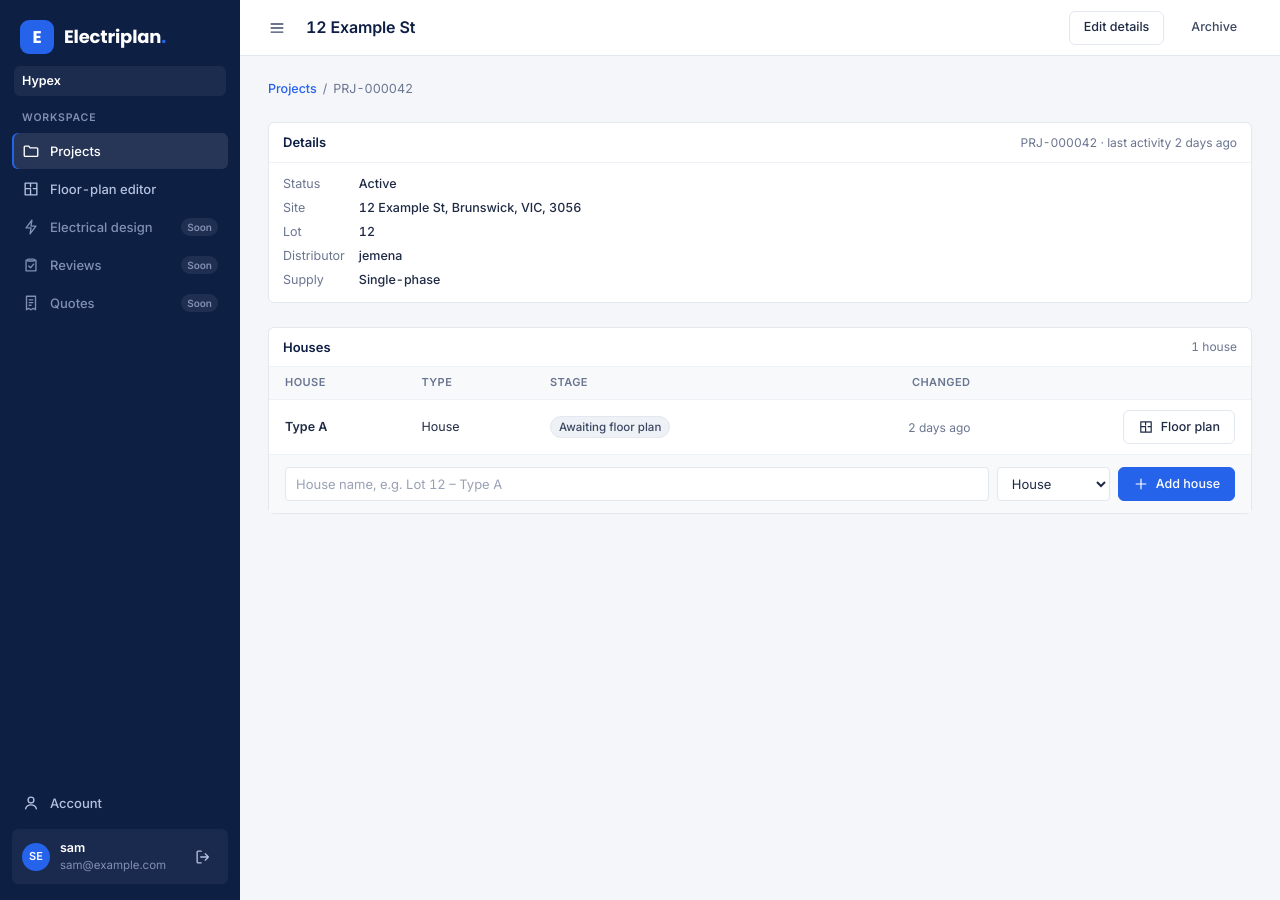
Project page › edits the details with the version it read
The width and height of the screenshot is (1280, 900).
Click the button "Edit details".
click(1117, 28)  # box [1069,10,1164,44]
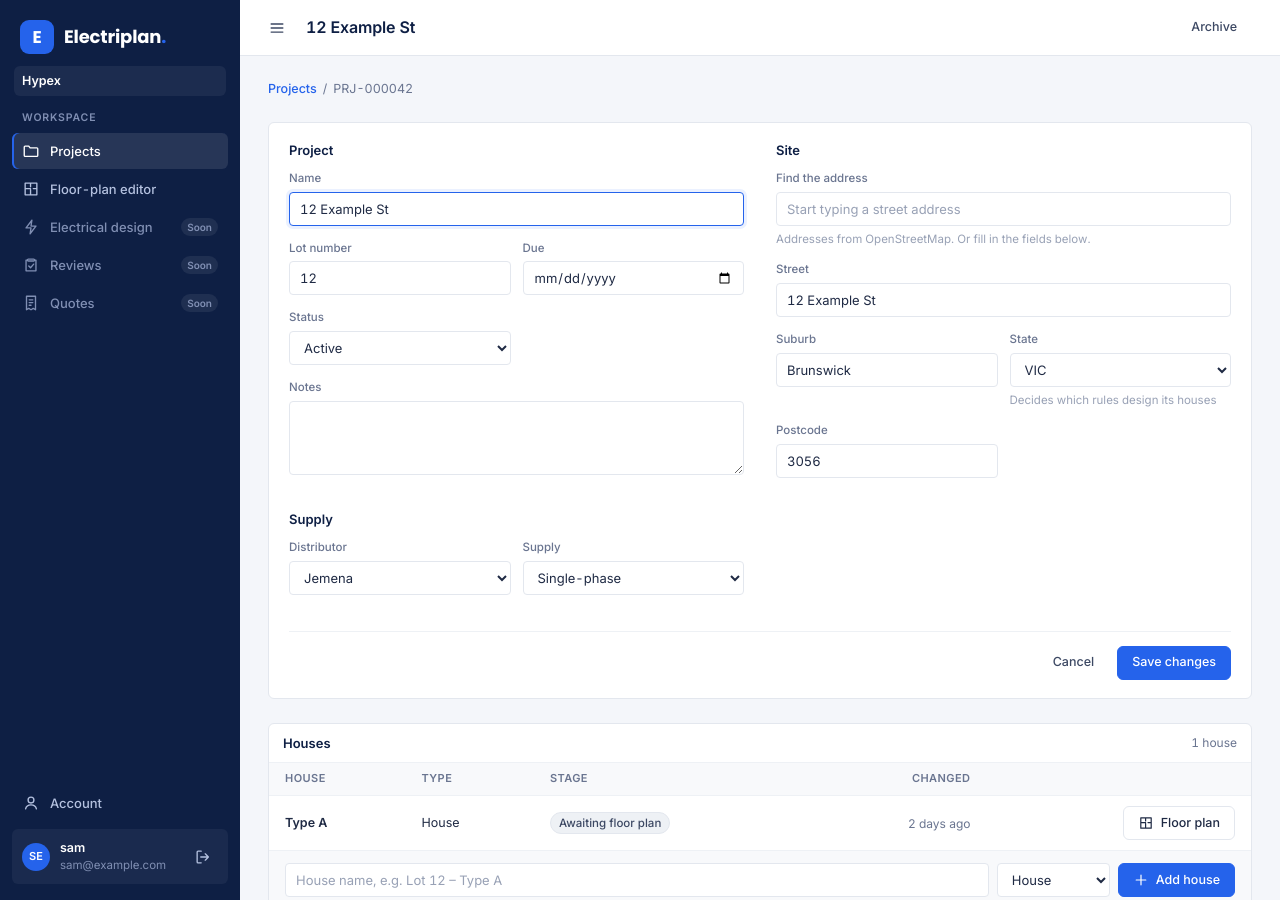
Replace the text in the field labelled "Name" with "14 Example St" at {"x": 516, "y": 209}, box [289,192,744,226]
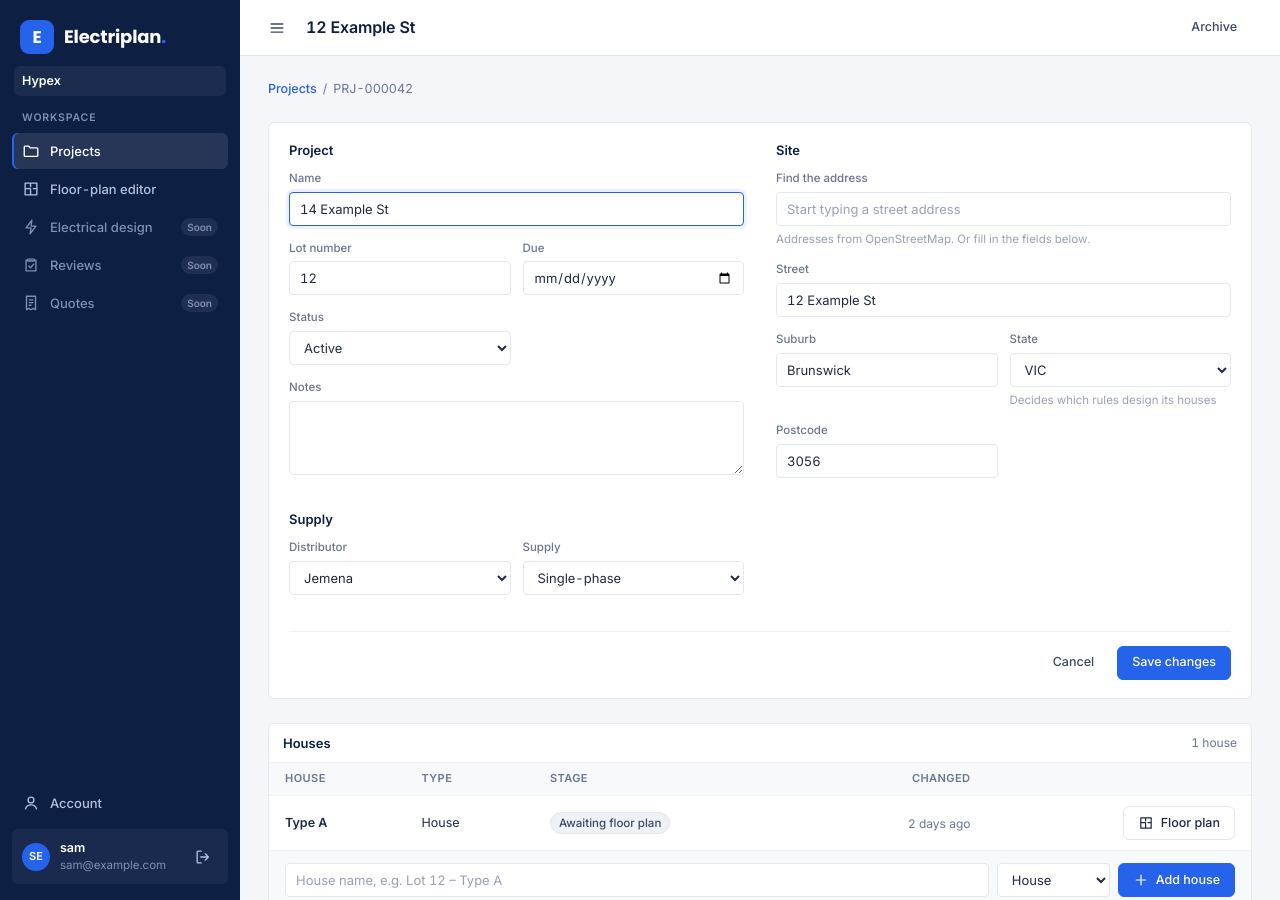
Click the button "Save changes".
click(1174, 662)  # box [1117,646,1231,680]
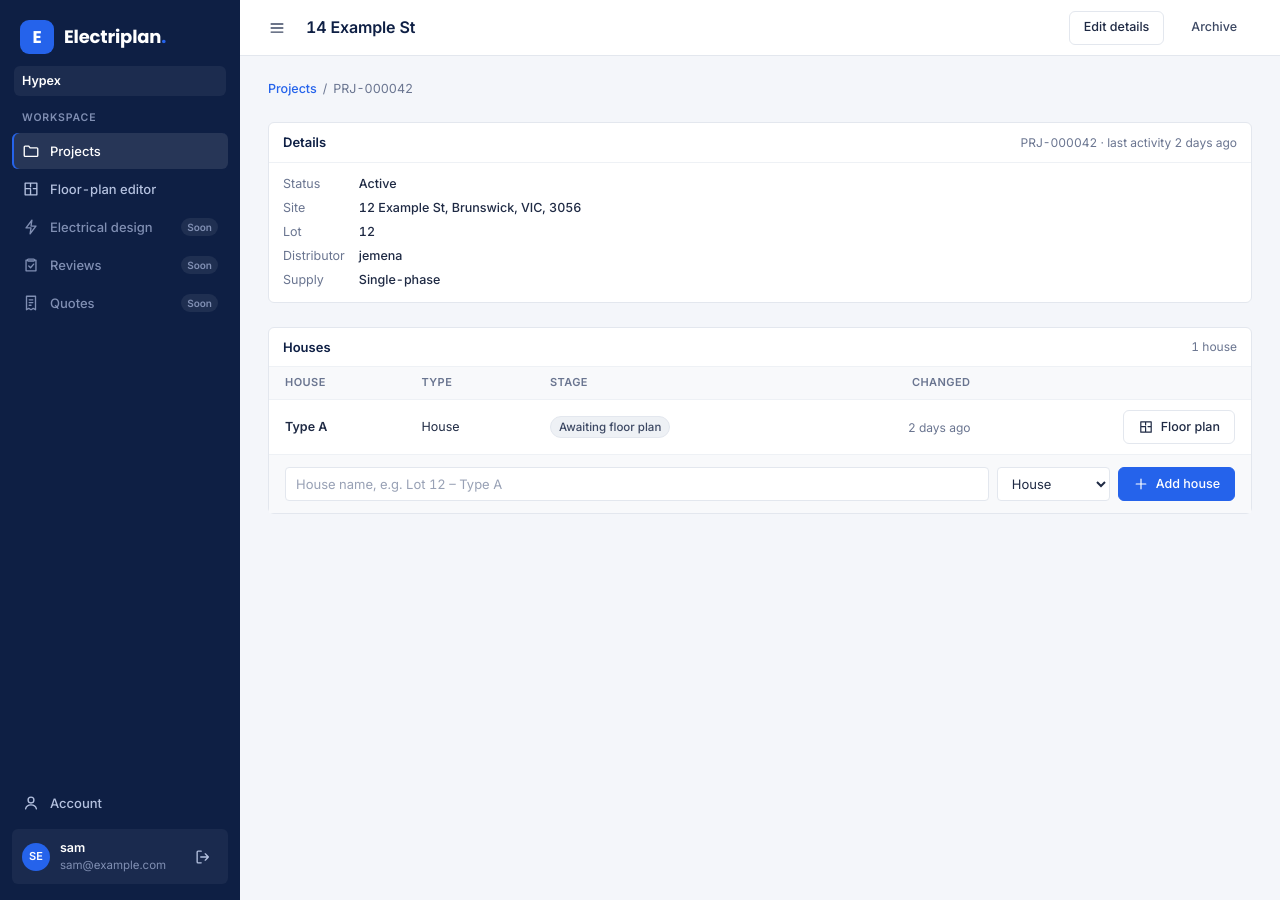
Now the heading "14 Example St" is shown, box [306,16,415,39]
